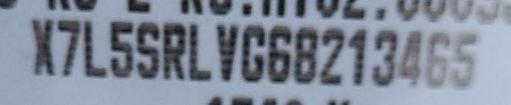letter: (134, 18, 161, 83), (81, 18, 110, 77), (186, 21, 214, 82), (265, 23, 293, 84), (212, 19, 239, 82), (425, 29, 452, 92), (371, 28, 399, 87), (451, 30, 479, 89), (107, 18, 134, 79), (397, 29, 424, 90), (54, 17, 81, 76), (318, 26, 345, 85), (32, 18, 58, 79), (241, 21, 266, 84), (291, 25, 317, 84), (161, 21, 186, 82), (347, 26, 369, 87)
